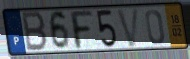0: (144, 8, 166, 46)
5: (96, 8, 118, 49)
6: (48, 9, 72, 53)
B: (21, 11, 49, 53)
F: (67, 9, 95, 51)
V: (115, 7, 141, 50)
